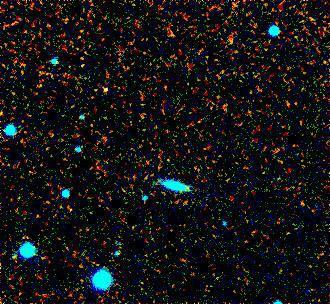star: (90, 76, 120, 106)
